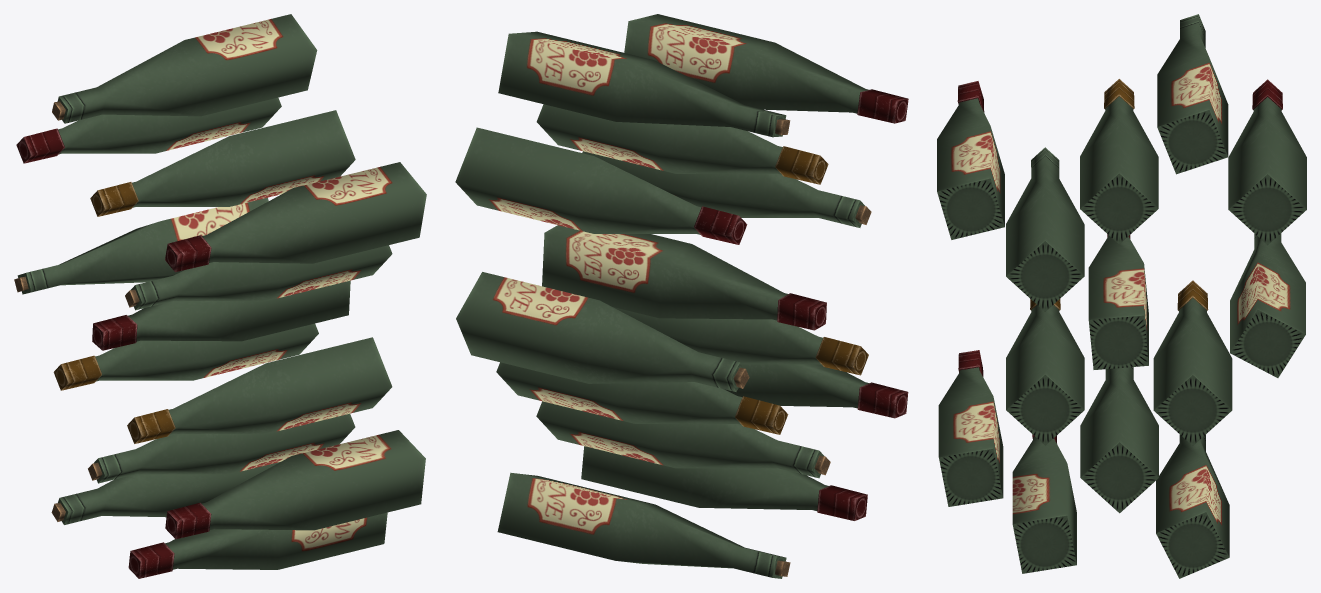
File: LOD2_bottles_wineCabinet_2.fbx
The picture shows the model from 3 angles, left to right: view 1: azimuth 30°, elevation 25°; view 2: azimuth 150°, elevation 25°; view 3: azimuth 270°, elevation 25°; orthographic projection. The views are drawn at different scales.
Parts seen in each view (by area): view 1: LOD2_bottles_wineCabinet_2; view 2: LOD2_bottles_wineCabinet_2; view 3: LOD2_bottles_wineCabinet_2.
Part boxes in pixels (left/top/right/bottom): LOD2_bottles_wineCabinet_2: left=14, top=14, right=426, bottom=578; LOD2_bottles_wineCabinet_2: left=455, top=14, right=908, bottom=578; LOD2_bottles_wineCabinet_2: left=937, top=14, right=1306, bottom=578.
Size of the model in its own units: 0.3339 by 0.6117 by 0.4373.
